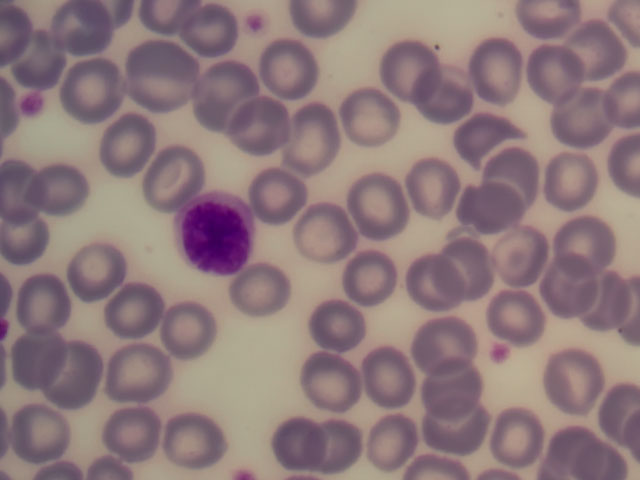Platelets: (241, 8, 270, 35), (21, 92, 42, 116), (488, 343, 508, 360)
RBC: (61, 58, 121, 120), (129, 44, 189, 106), (96, 113, 156, 175), (138, 142, 198, 204), (194, 62, 254, 124), (234, 94, 294, 156), (256, 41, 316, 103), (185, 5, 245, 67), (9, 26, 69, 88), (39, 159, 99, 221), (62, 237, 122, 299), (20, 270, 80, 332), (2, 321, 62, 383), (39, 339, 99, 401), (103, 346, 163, 408), (5, 399, 65, 461), (98, 403, 158, 465), (168, 406, 228, 468), (162, 296, 222, 358), (101, 280, 161, 342), (234, 264, 294, 326), (305, 293, 365, 355), (289, 208, 349, 270), (250, 169, 310, 231), (284, 111, 344, 173), (342, 79, 402, 141), (372, 35, 432, 97), (427, 62, 487, 124), (451, 103, 511, 165), (397, 149, 457, 211), (353, 176, 413, 238), (340, 249, 400, 311), (405, 253, 465, 315), (441, 232, 501, 294), (484, 220, 544, 282), (461, 178, 521, 240), (485, 142, 545, 204), (539, 153, 599, 215), (559, 99, 619, 161), (535, 41, 595, 103), (480, 38, 540, 100), (559, 17, 619, 79), (541, 200, 601, 262), (540, 251, 600, 313), (484, 274, 544, 336), (414, 317, 474, 379), (365, 343, 425, 405), (301, 350, 361, 412), (314, 418, 374, 480), (255, 418, 315, 480), (361, 412, 421, 474), (420, 402, 480, 464), (429, 353, 489, 415), (489, 408, 549, 470), (542, 350, 602, 412), (540, 418, 600, 480), (580, 271, 640, 333), (62, 1, 122, 62), (1, 206, 60, 268)
WBC: (176, 195, 254, 276)
